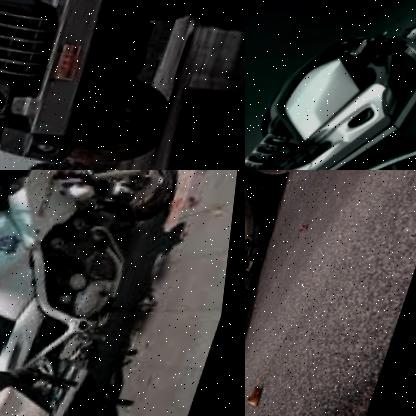bike: (0, 170, 193, 416), (245, 0, 416, 170), (245, 170, 308, 398)
car: (245, 170, 416, 221)
